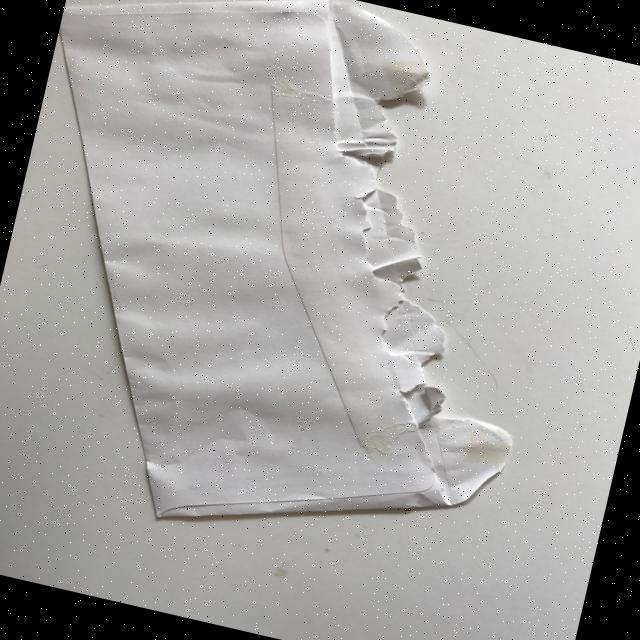paper: (0, 0, 601, 592)
